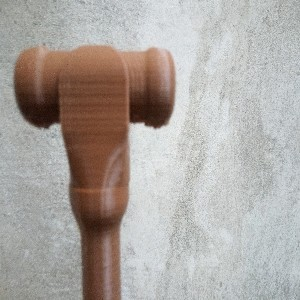palu: (14, 43, 177, 300)
